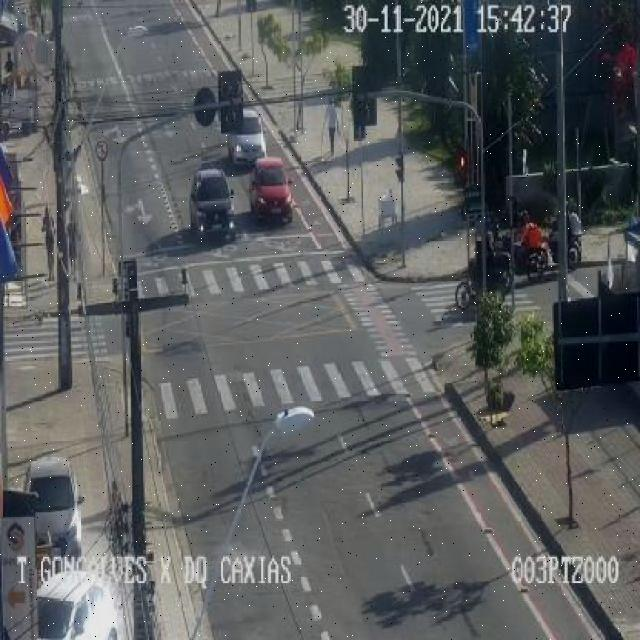car: (24, 458, 84, 562), (37, 570, 125, 638), (188, 166, 234, 240), (252, 155, 296, 223), (226, 107, 268, 164)
motorbike: (456, 230, 512, 310), (536, 208, 582, 266), (41, 203, 57, 282), (64, 208, 80, 274), (326, 96, 339, 156)
